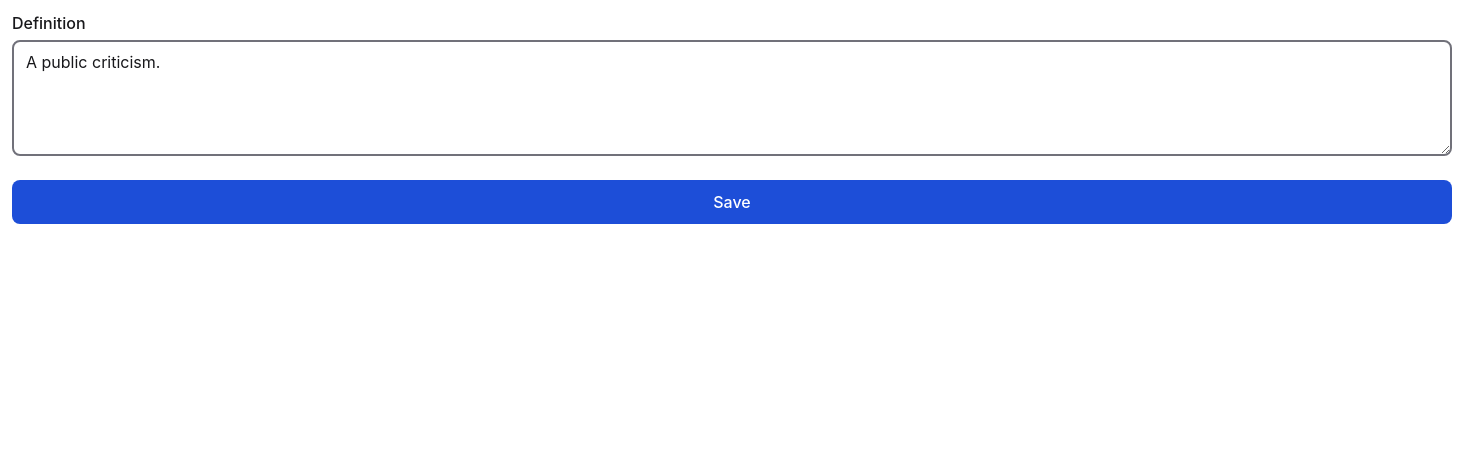
Scenario: ChangedElsewhereNotice › [CL-IHM-18] shows the current version beside the input, which stays visible to be applied again
The image size is (1464, 463).
Replace the text in the text box labelled "Definition" with "A public remark of the player by a coach." at (732, 98), box [12,40,1452,156]
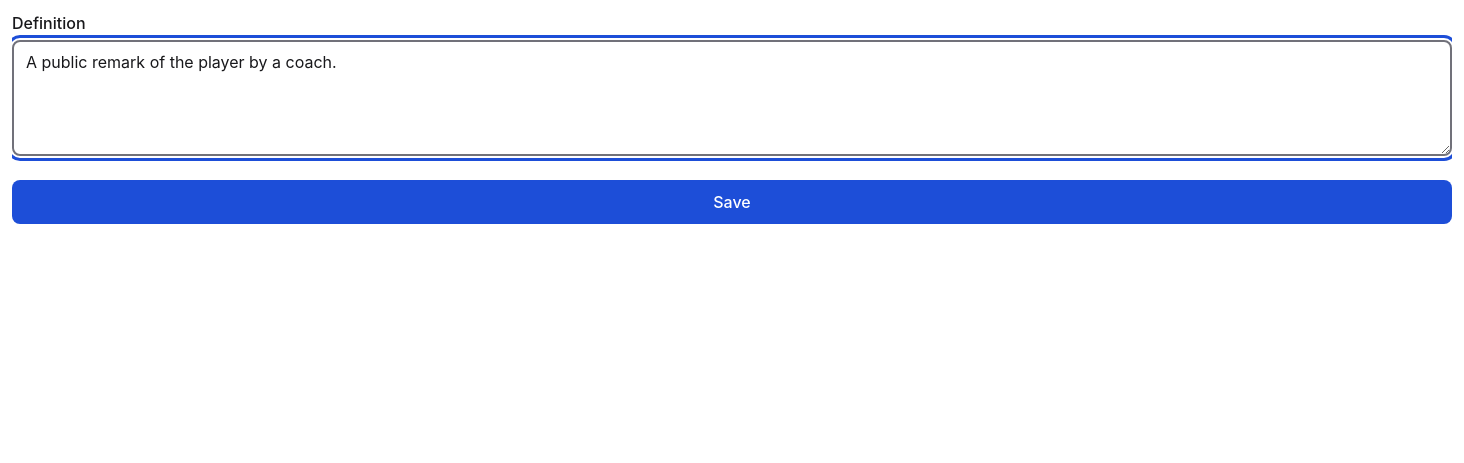
Click the button "Save" at (732, 202), box [12,180,1452,224]
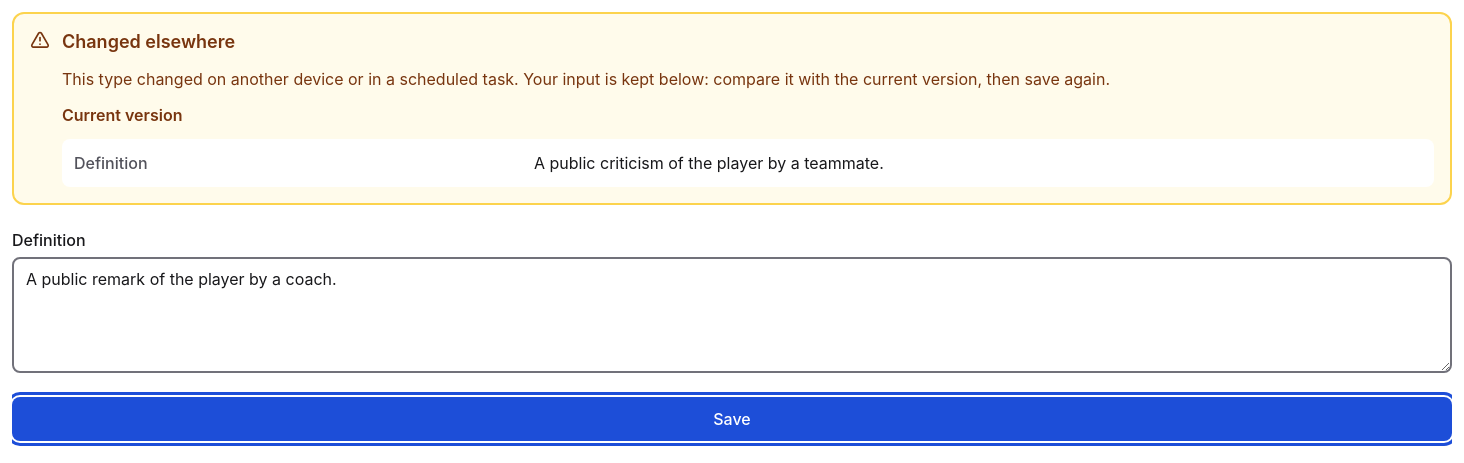
Result: the heading "Changed elsewhere" is shown at [62,31,235,52]
Result: the text "changed on another device or in a scheduled task" is shown at [62,69,1110,89]
Result: the heading "Current version" is shown at [62,105,182,125]
